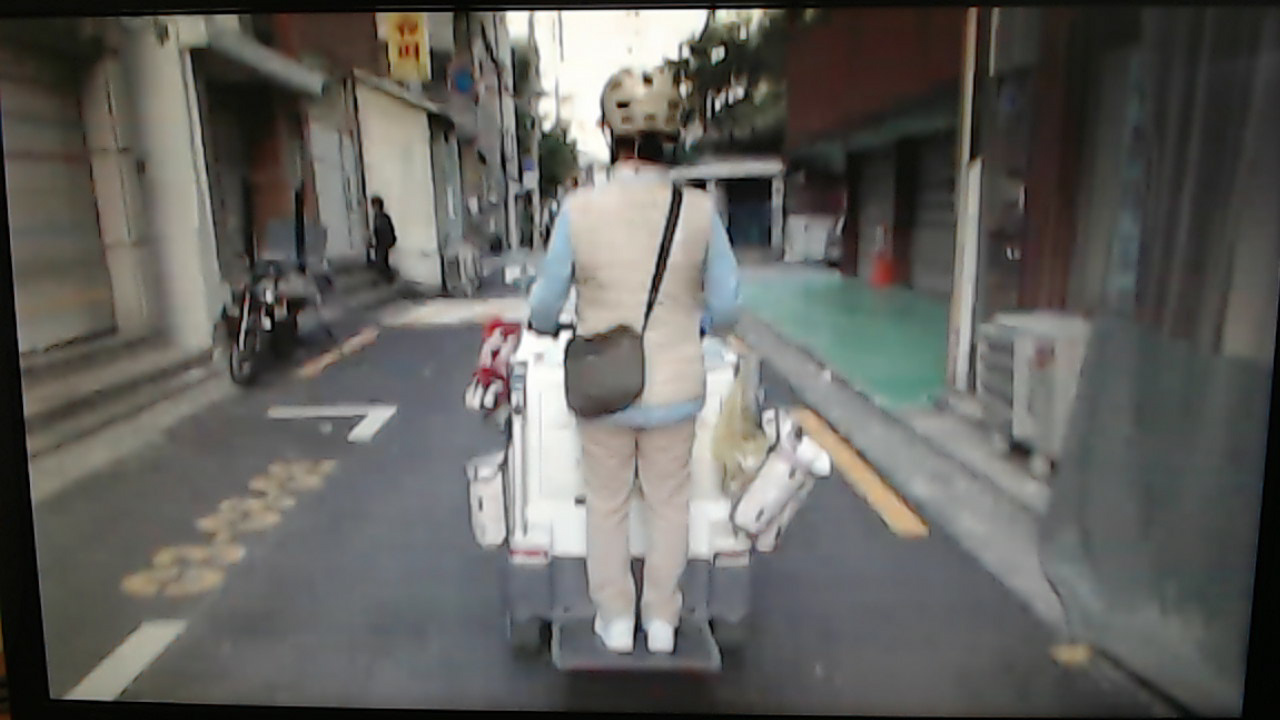Yakurut: (514, 53, 779, 670)
